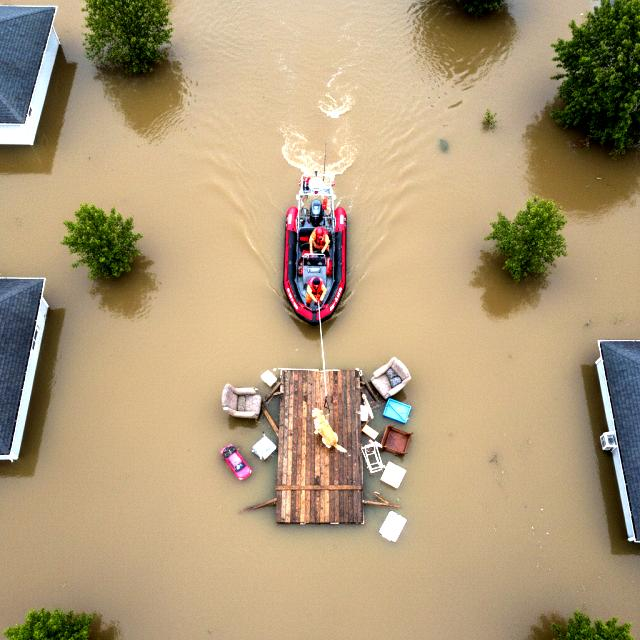dog: (305, 404, 353, 464)
rescuer: (298, 272, 332, 312), (307, 224, 334, 264)
